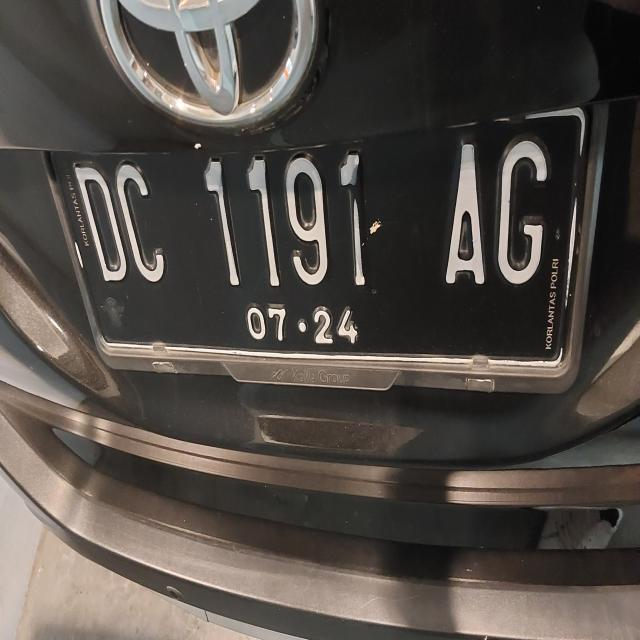1: (198, 151, 248, 297), (332, 151, 382, 297), (240, 152, 288, 298)
9: (280, 155, 334, 291)
A: (440, 138, 490, 296)
C: (114, 153, 178, 294)
D: (66, 154, 130, 298)
G: (494, 135, 551, 296)
